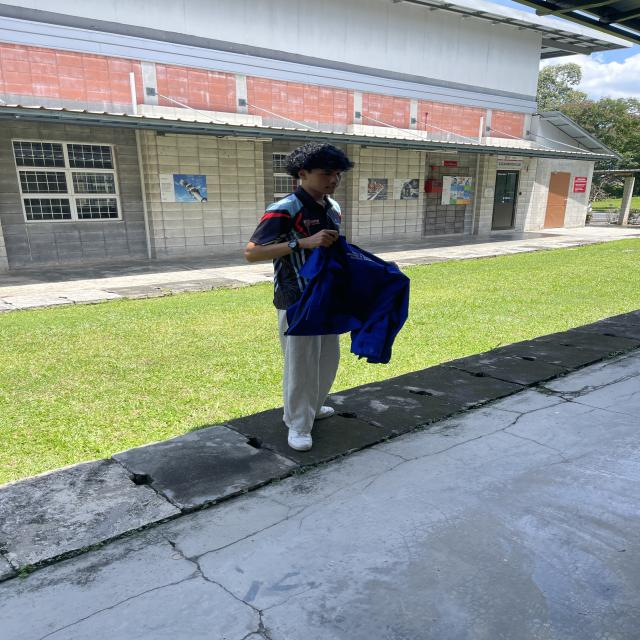person_without_labcoat: (247, 143, 410, 450)
